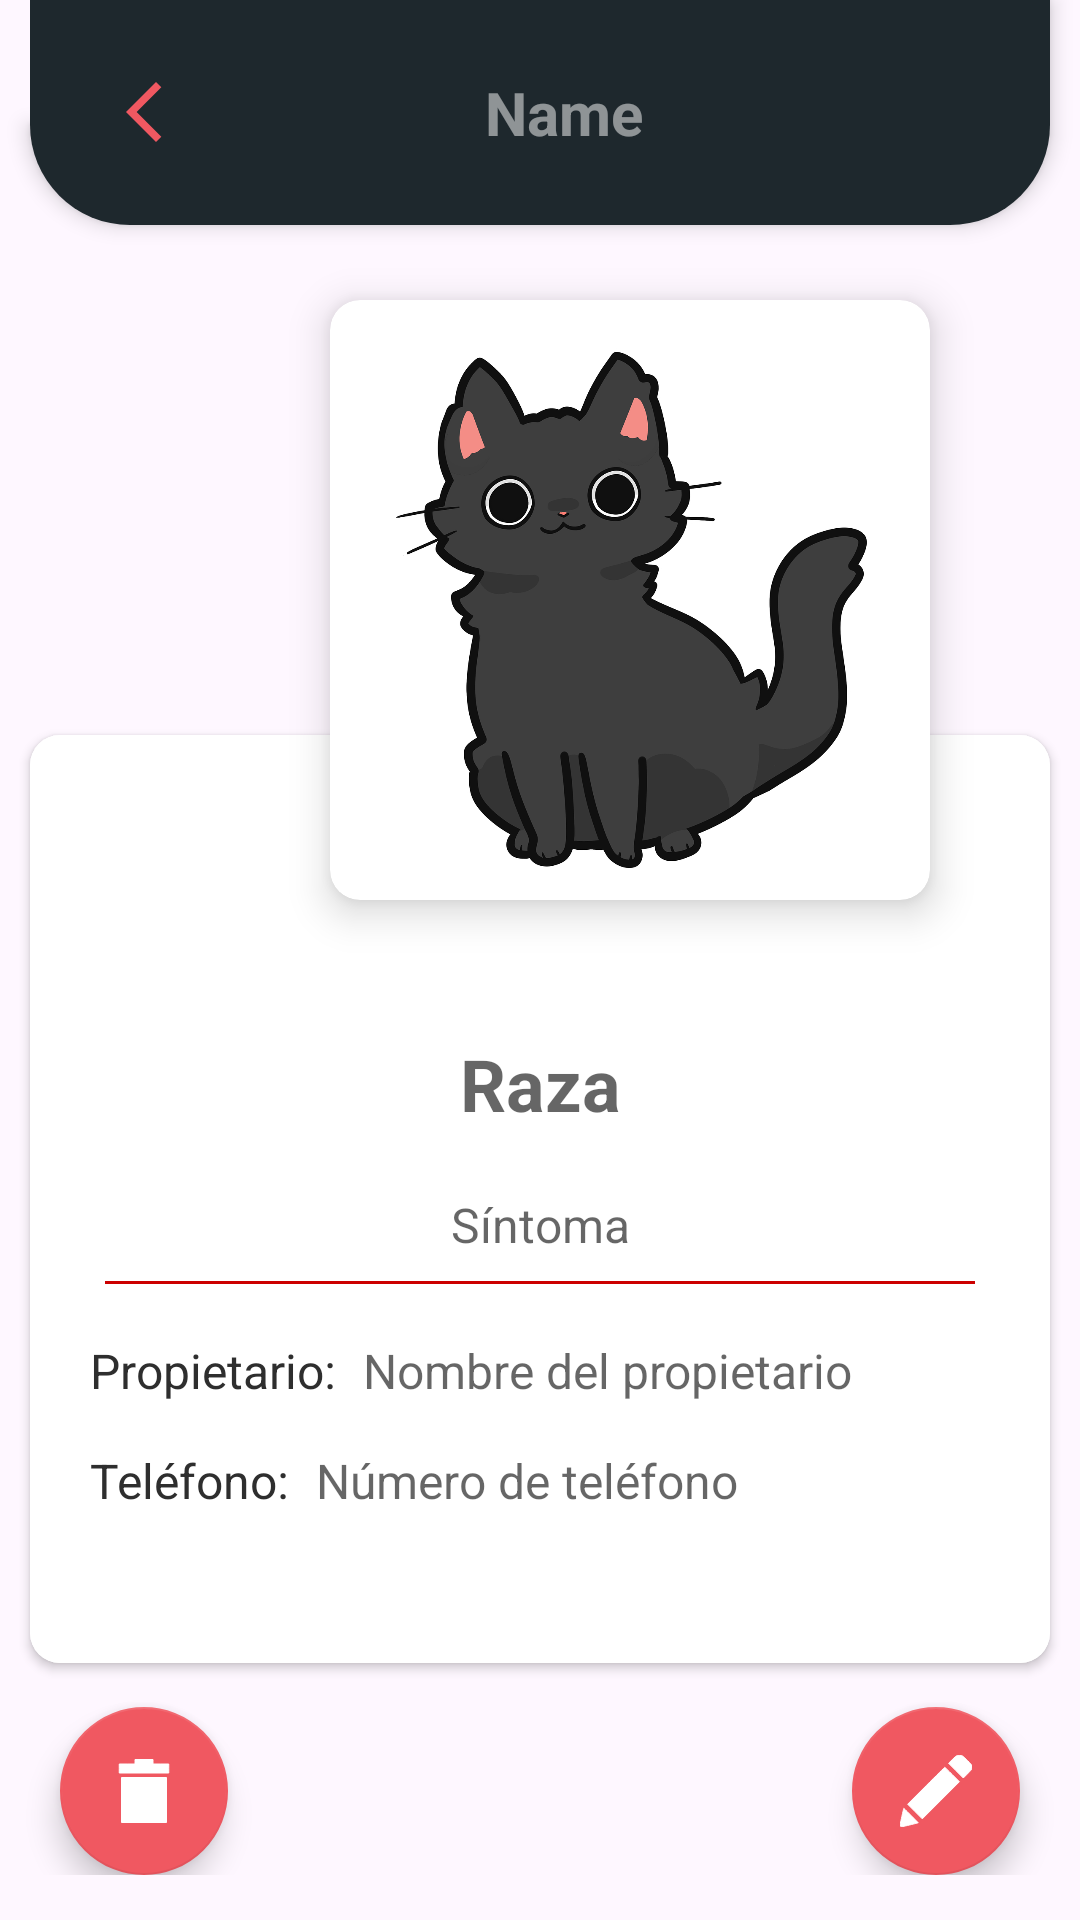

Where to tap for icons on this 1080px×1920px app screen, as point (x, y):
Back: point (143, 112)
delete: point (144, 1791)
edit: point (936, 1791)
